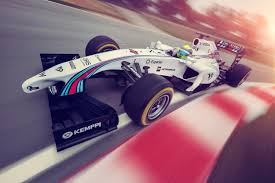FormulaOneCar: (14, 28, 252, 153)
